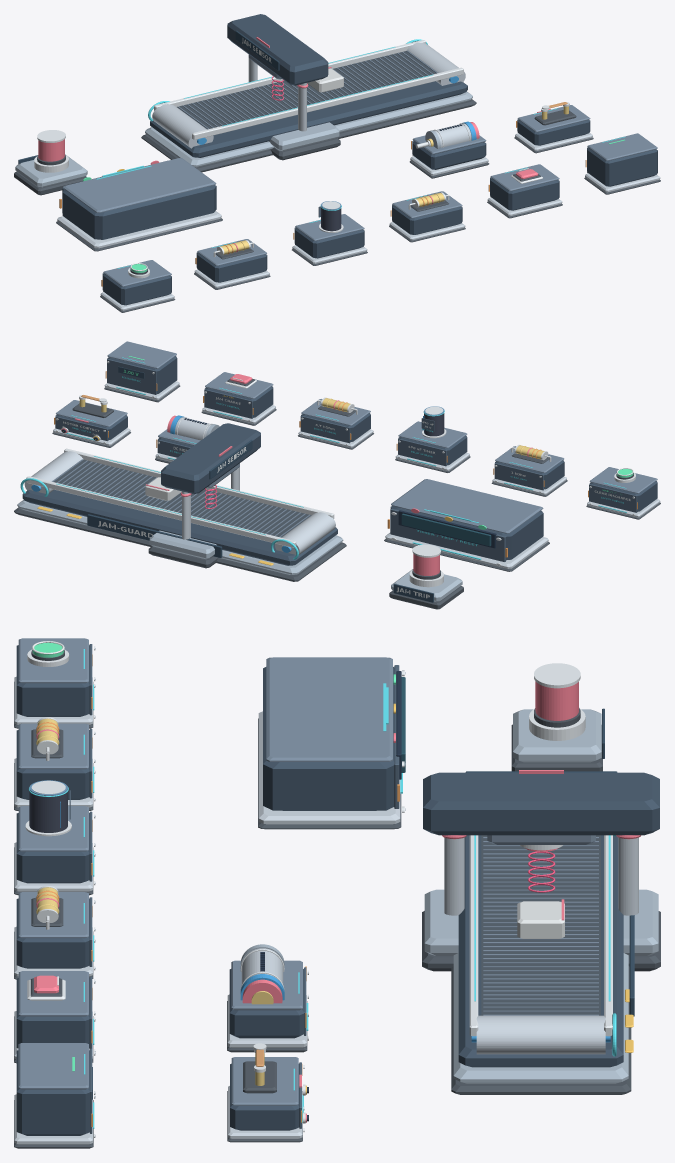
Rendered from Level33_Fitted_Assembly.fbx.
3 views of the same model, one above another, from view 1: azimuth 30°, elevation 25°; view 2: azimuth 150°, elevation 25°; view 3: azimuth 270°, elevation 25° (orthographic). The views are drawn at different scales.
Parts seen in each view (by area): view 1: L33_Conveyor_Static__graphite, L33_Conveyor_Static__belt, L33_Monitor_Static__graphite, L33_Monitor_Static__mid_steel, L33_Sensor_Static__graphite, L33_Conveyor_Static__chrome, L33_Conveyor_Static__steel, L33_Conveyor_Static__titanium, L33_Supply_Static__graphite, L33_Conveyor_Static__rubber, L33_Jam_Static__graphite, L33_Monitor_Static__titanium (+28 smaller); view 2: L33_Conveyor_Static__belt, L33_Conveyor_Static__graphite, L33_Monitor_Static__mid_steel, L33_Sensor_Static__graphite, L33_Conveyor_Static__chrome, L33_Conveyor_Static__titanium, L33_Conveyor_Static__rubber, L33_Conveyor_Static__steel, L33_Monitor_Static__deep_steel, L33_Monitor_Static__graphite, L33_Monitor_Static__screen, L33_Supply_Static__deep_steel (+37 smaller); view 3: L33_Sensor_Static__graphite, L33_Conveyor_Static__belt, L33_Monitor_Static__mid_steel, L33_Conveyor_Static__graphite, L33_Monitor_Static__graphite, L33_Conveyor_Static__titanium, L33_Conveyor_Static__steel, L33_Sensor_Static__steel, L33_Supply_Static__graphite, L33_Conveyor_Static__chrome, L33_Supply_Static__mid_steel, L33_Sensor_Static__titanium (+31 smaller).
Part boxes in pixels (x1,y1,x2,y2): L33_Conveyor_Static__graphite: (150,81,467,157); L33_Conveyor_Static__belt: (177,51,436,129); L33_Monitor_Static__graphite: (62,185,216,239); L33_Monitor_Static__mid_steel: (63,158,216,212); L33_Sensor_Static__graphite: (227,14,328,85); L33_Conveyor_Static__chrome: (154,40,463,139); L33_Conveyor_Static__steel: (145,91,472,167); L33_Conveyor_Static__titanium: (152,42,465,148); L33_Supply_Static__graphite: (587,148,657,186); L33_Conveyor_Static__rubber: (141,99,476,172); L33_Jam_Static__graphite: (490,178,559,210); L33_Monitor_Static__titanium: (57,211,221,248); L33_Conveyor_Static__belt: (54,459,311,537); L33_Conveyor_Static__graphite: (22,489,337,565); L33_Monitor_Static__mid_steel: (391,479,543,565); L33_Sensor_Static__graphite: (161,423,260,494); L33_Conveyor_Static__chrome: (26,448,334,547); L33_Conveyor_Static__titanium: (24,451,335,555); L33_Conveyor_Static__rubber: (14,507,346,581); L33_Conveyor_Static__steel: (17,500,343,574); L33_Monitor_Static__deep_steel: (390,508,505,561); L33_Monitor_Static__graphite: (390,506,543,560); L33_Monitor_Static__screen: (401,513,491,546); L33_Supply_Static__deep_steel: (107,359,156,394); L33_Sensor_Static__graphite: (423,772,659,835); L33_Conveyor_Static__belt: (481,835,600,1015); L33_Monitor_Static__mid_steel: (266,657,405,810); L33_Conveyor_Static__graphite: (458,835,623,1067); L33_Monitor_Static__graphite: (263,667,394,810); L33_Conveyor_Static__titanium: (476,1015,605,1054); L33_Conveyor_Static__steel: (453,953,628,1083); L33_Sensor_Static__steel: (424,889,658,955); L33_Supply_Static__graphite: (16,1050,89,1135); L33_Conveyor_Static__chrome: (469,835,612,1036); L33_Supply_Static__mid_steel: (18,1043,95,1136); L33_Sensor_Static__titanium: (444,837,638,915).
Size of the model in its own units: 182 by 29.8 by 107.
